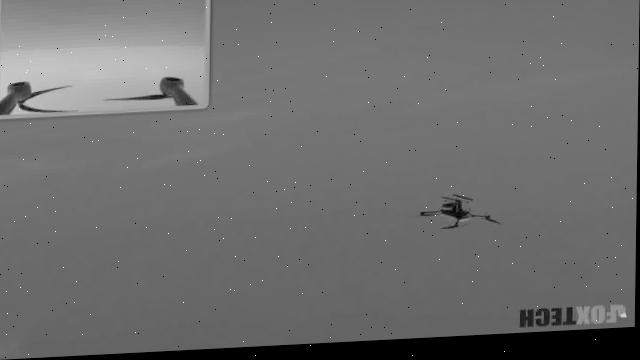drone: (412, 188, 506, 250)
